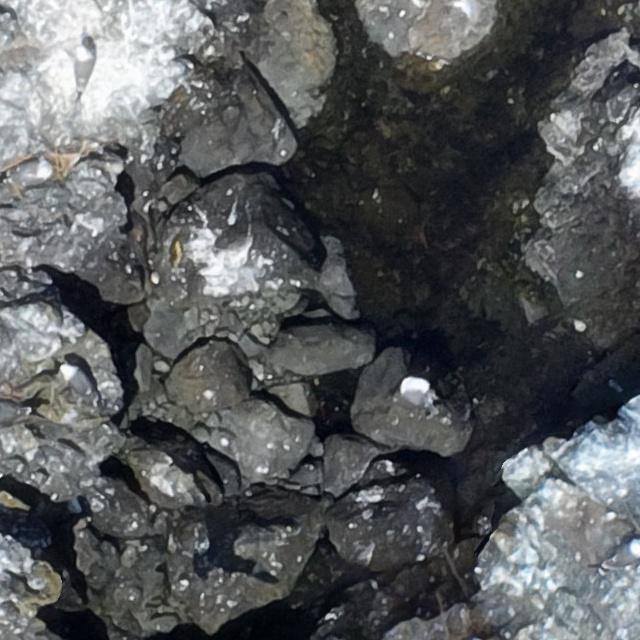umineko: (606, 540, 640, 572), (400, 376, 430, 409), (72, 44, 93, 91), (61, 367, 85, 391), (1, 402, 23, 423)
